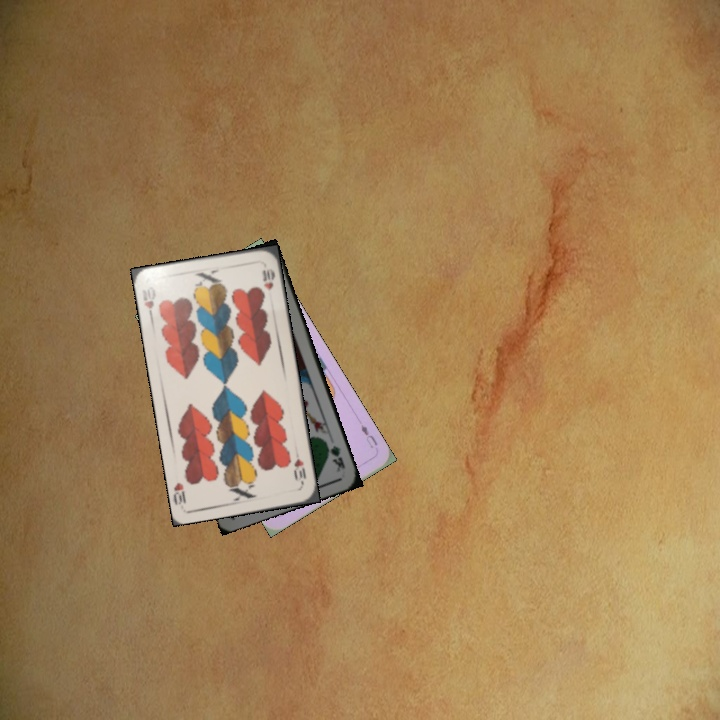EU: (357, 420, 380, 451)
GK: (321, 438, 348, 475)
H10: (138, 282, 158, 322), (290, 455, 309, 488)
